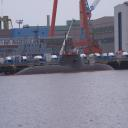submarine: (2, 55, 116, 78)
